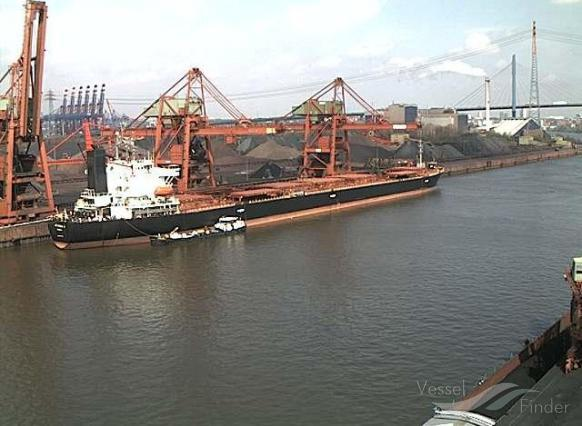OCR: (48, 222, 72, 238)
